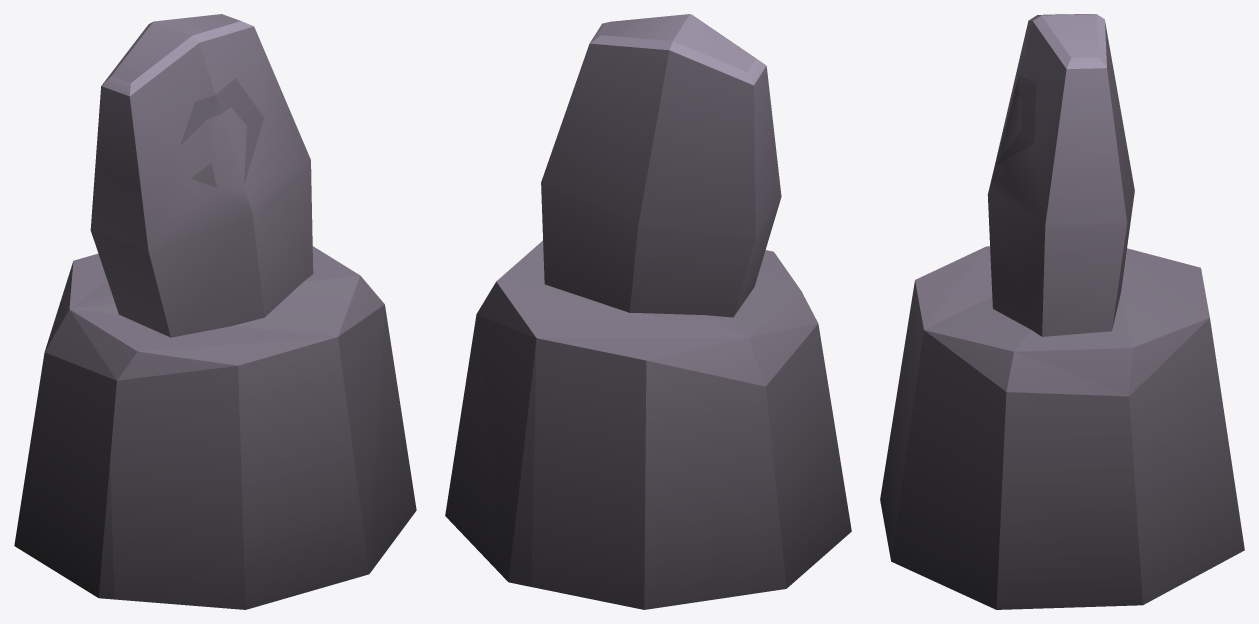
The model's file is grave_1.glb.
The picture shows the model from 3 angles, left to right: view 1: azimuth 30°, elevation 25°; view 2: azimuth 150°, elevation 25°; view 3: azimuth 270°, elevation 25°; orthographic projection. The views are drawn at different scales.
Parts seen in each view (by area): view 1: grave_1; view 2: grave_1; view 3: grave_1.
Boxes of the visible parts, <box> form: grave_1: <box>14,14,416,609</box>; grave_1: <box>445,14,851,609</box>; grave_1: <box>880,14,1244,609</box>.
Bounding box in the file's own units: 0.9036 × 1.29 × 0.8596.
Materials: 1 (1 with a texture image).
